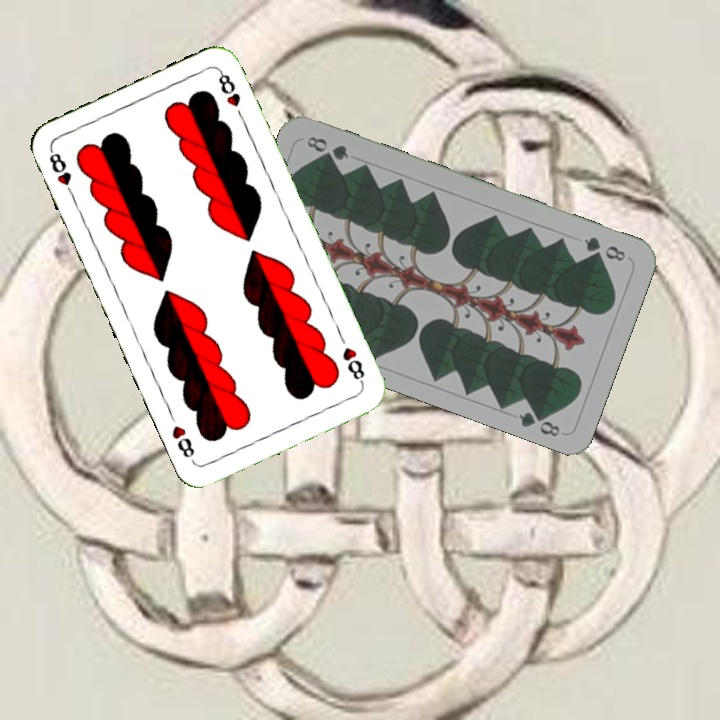G8: (580, 232, 629, 264)
H8: (45, 145, 78, 201), (338, 343, 367, 388)
